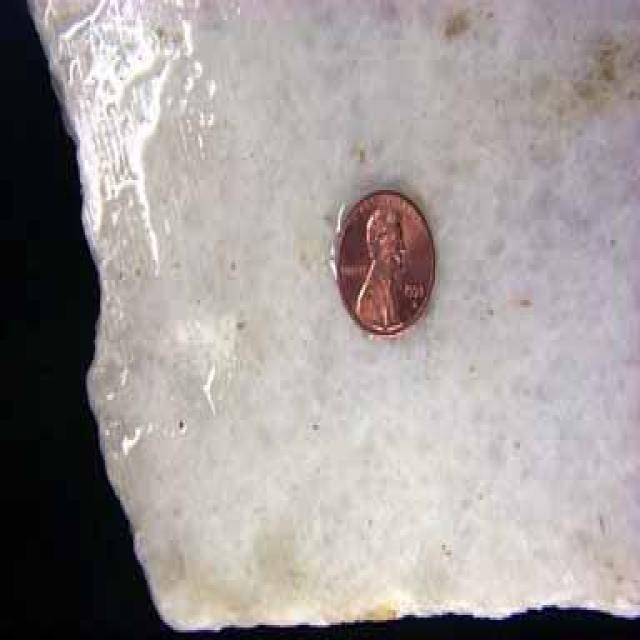Metamorphic: (35, 2, 633, 640)
